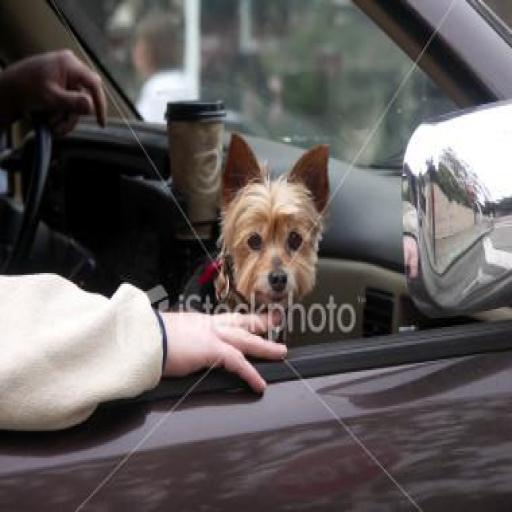dog_face: (211, 129, 328, 309)
